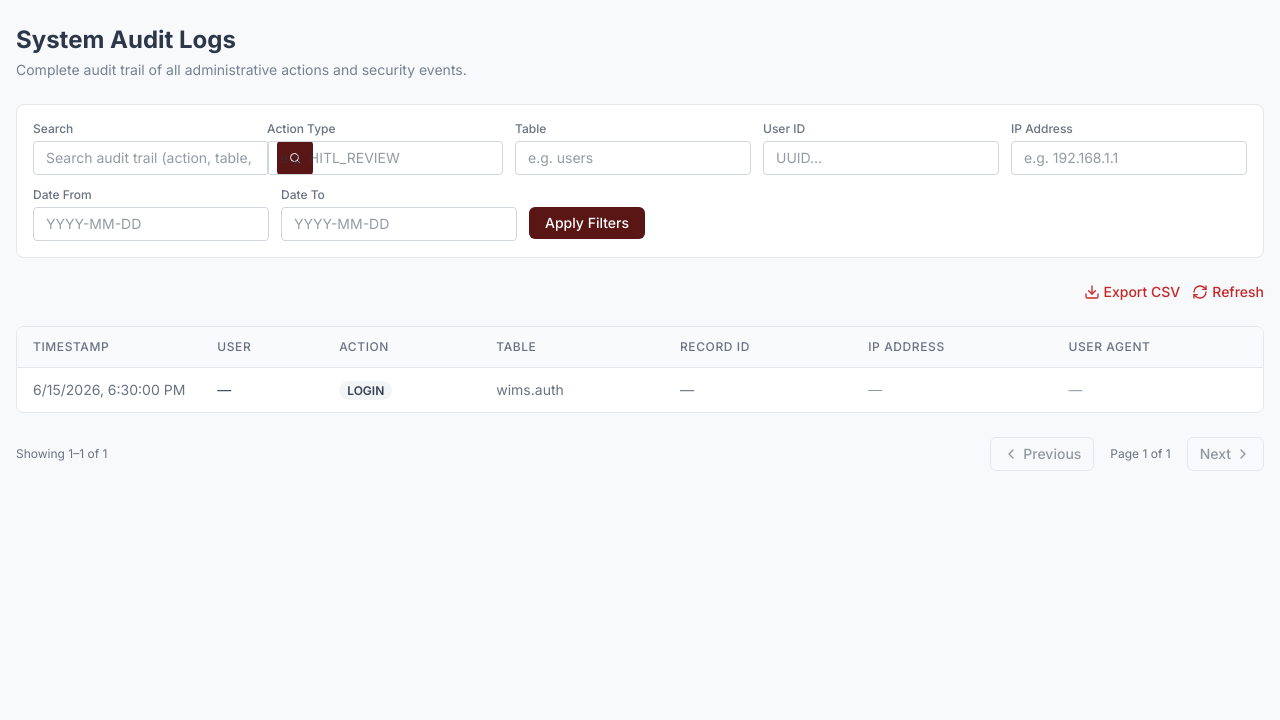
Test case: Admin Audit page › Keycloak auth username render transform › displays subject_username for wims.auth entry with username in new_values when user context is null
The image size is (1280, 720).
expect the text "LOGIN" is shown: met, box [339, 381, 392, 400]
Click the text "LOGIN" at (109, 390), box [17, 368, 1263, 412]
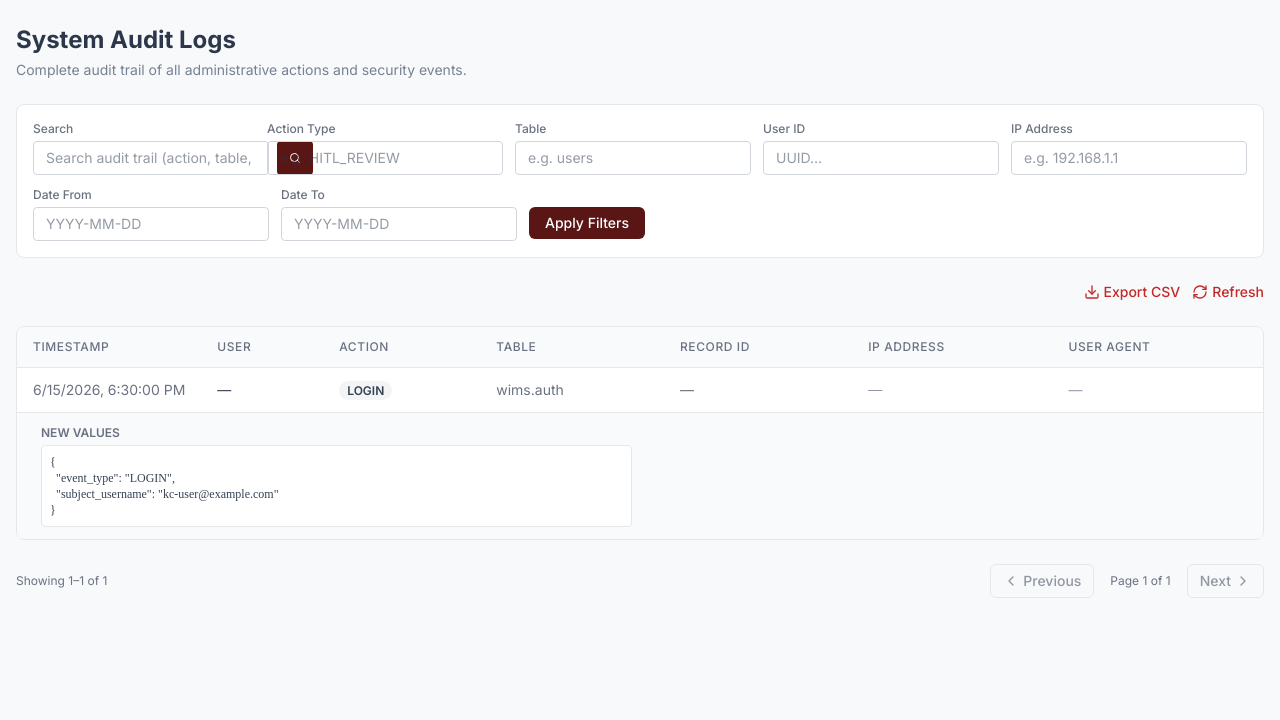
expect the heading "New Values" is shown: met, box [41, 425, 120, 440]
